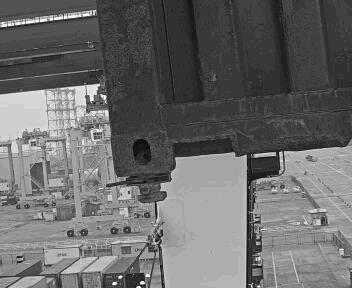twist_lock_1: (136, 159, 198, 205)
